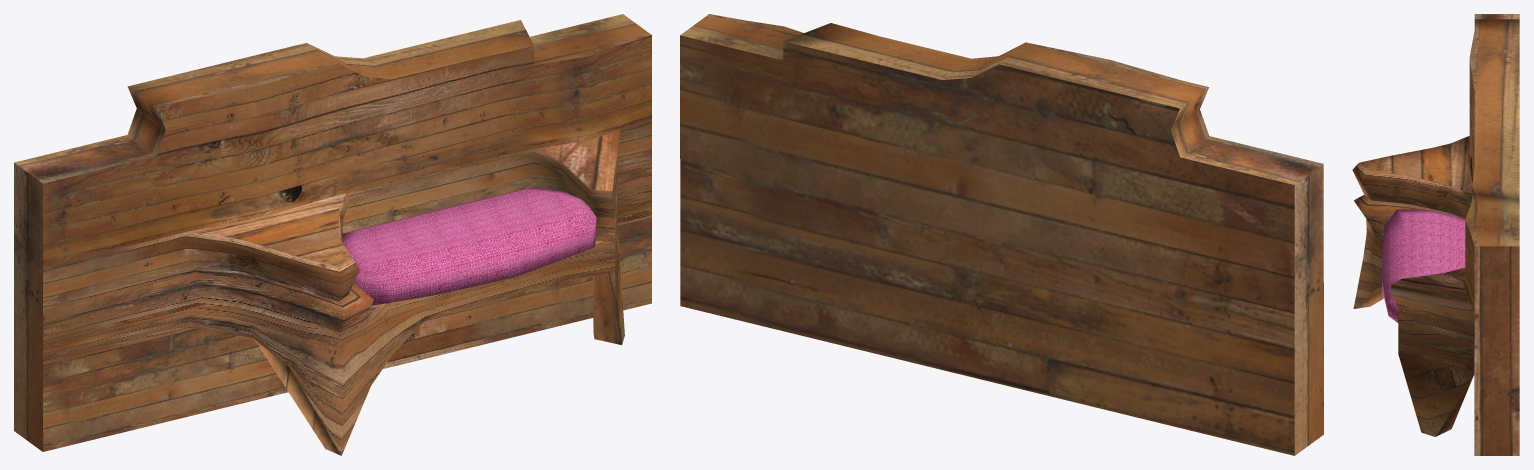
Rendered from bench.glb.
3 views of the same model, side by side, from view 1: azimuth 30°, elevation 25°; view 2: azimuth 150°, elevation 25°; view 3: azimuth 270°, elevation 25° (orthographic). The views are drawn at different scales.
Visible parts, largest first — view 1: back-col, cushion-col; view 2: back-col; view 3: back-col, cushion-col.
Part boxes in pixels (x1=…): back-col: x1=14, y1=14, x2=651, y2=455; cushion-col: x1=342, y1=186, x2=596, y2=305; back-col: x1=680, y1=14, x2=1323, y2=455; back-col: x1=1352, y1=14, x2=1519, y2=455; cushion-col: x1=1382, y1=209, x2=1465, y2=322.
Size of the model in its own units: 2.92 by 1.46 by 0.8896.
2 materials, 2 textured.
